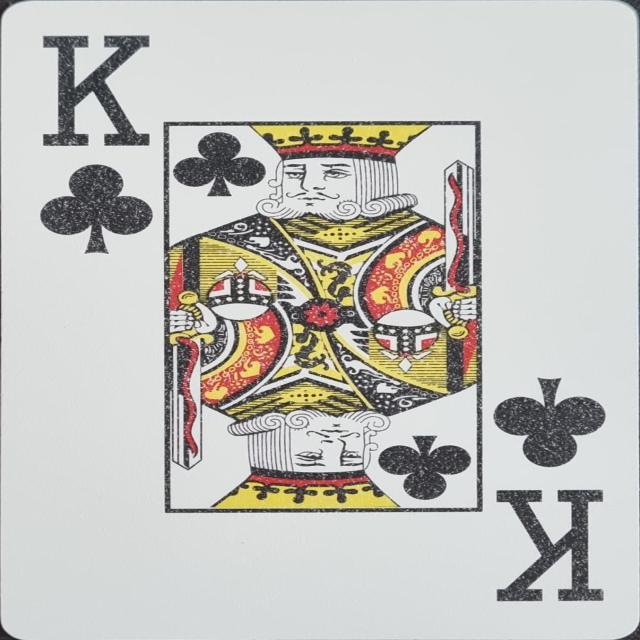Kc: (488, 370, 616, 611), (33, 27, 158, 262)
